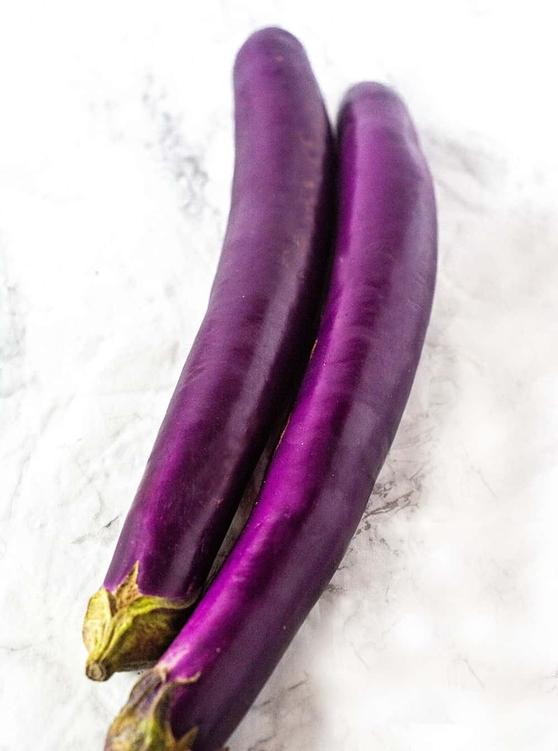eggplant: (78, 27, 344, 684)
